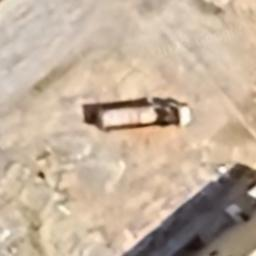truck: (93, 102, 192, 131)
